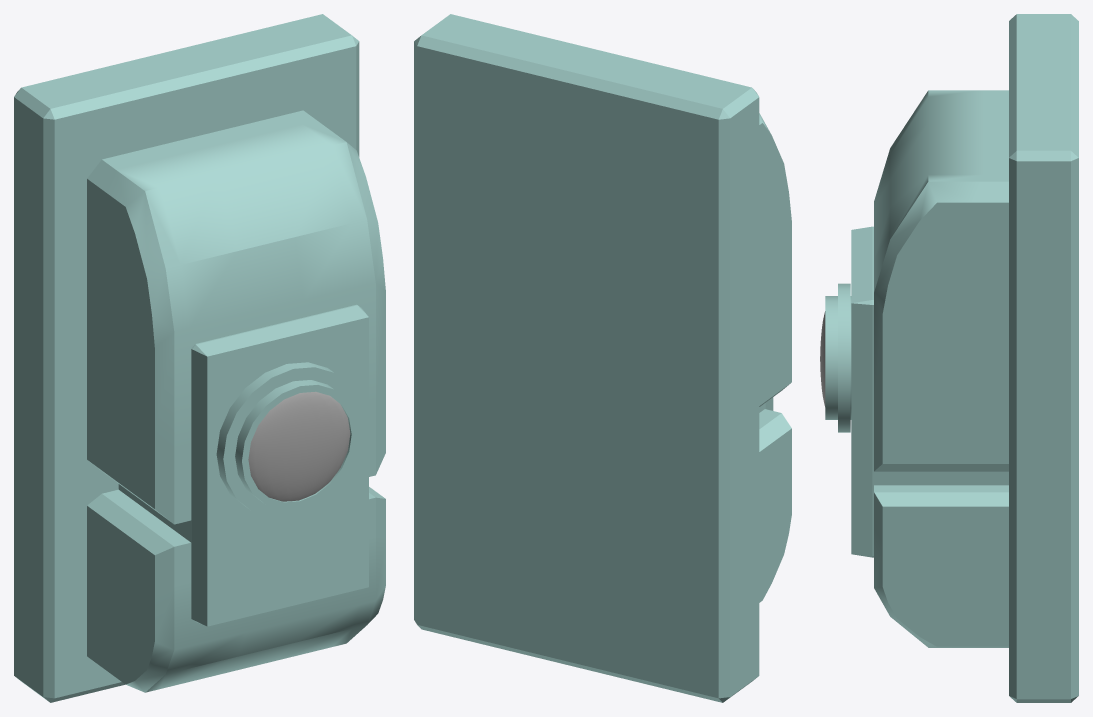
The model's file is WallLaser.fbx.
3 renders of one model, left to right at view 1: azimuth 30°, elevation 25°; view 2: azimuth 150°, elevation 25°; view 3: azimuth 270°, elevation 25°, orthographic. The views are drawn at different scales.
Parts seen in each view (by area): view 1: pCube6, pSphere1; view 2: pCube6; view 3: pCube6, pSphere1.
Part boxes in pixels (x1,y1,x2,y2): pCube6: (14, 14, 385, 702); pSphere1: (248, 391, 350, 501); pCube6: (414, 14, 791, 702); pCube6: (825, 14, 1078, 702); pSphere1: (820, 311, 825, 406).
Size of the model in its own units: 14.54 by 26.1 by 11.08.
